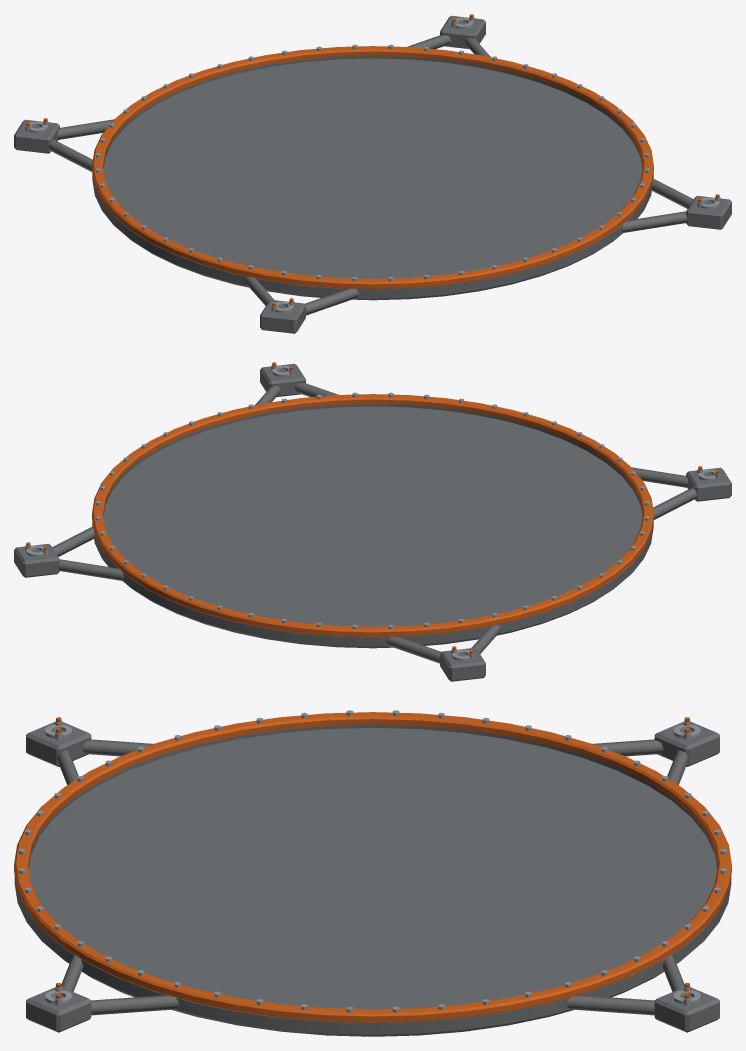
The model's file is tz12_structure.obj.
The picture shows the model from 3 angles, top to bottom: view 1: azimuth 30°, elevation 25°; view 2: azimuth 150°, elevation 25°; view 3: azimuth 270°, elevation 25°; orthographic projection. The views are drawn at different scales.
Parts seen in each view (by area): view 1: tz12_structure; view 2: tz12_structure; view 3: tz12_structure.
Part boxes in pixels (box(x1,y1,x2,y2)): tz12_structure: box(14, 14, 731, 333); tz12_structure: box(14, 362, 731, 681); tz12_structure: box(14, 710, 731, 1036).
Bounding box in the file's own units: 6.7 × 0.315 × 6.7.
